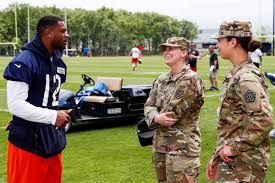uniform: (212, 60, 271, 182), (146, 66, 203, 179)
